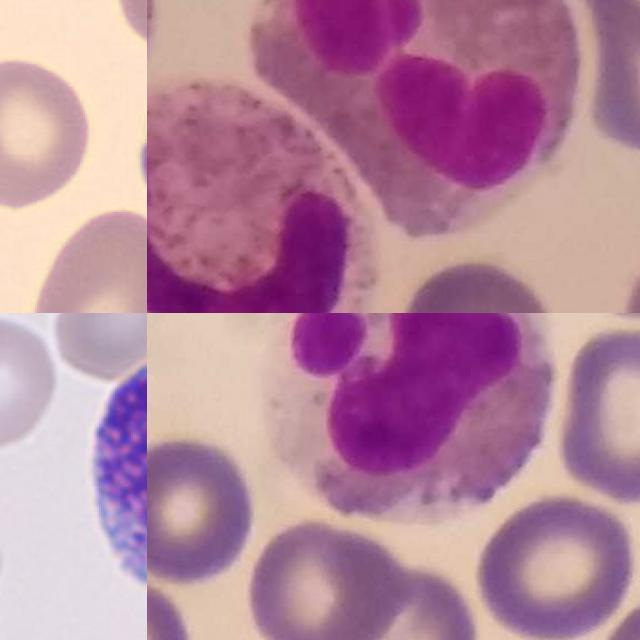Eosinophil: (255, 0, 582, 241), (258, 313, 551, 525)
Lymphocyte: (74, 322, 147, 640)
Neutrophil: (147, 80, 376, 313)
RBC: (0, 51, 97, 212), (24, 201, 147, 313), (0, 313, 61, 453), (47, 313, 147, 381)
